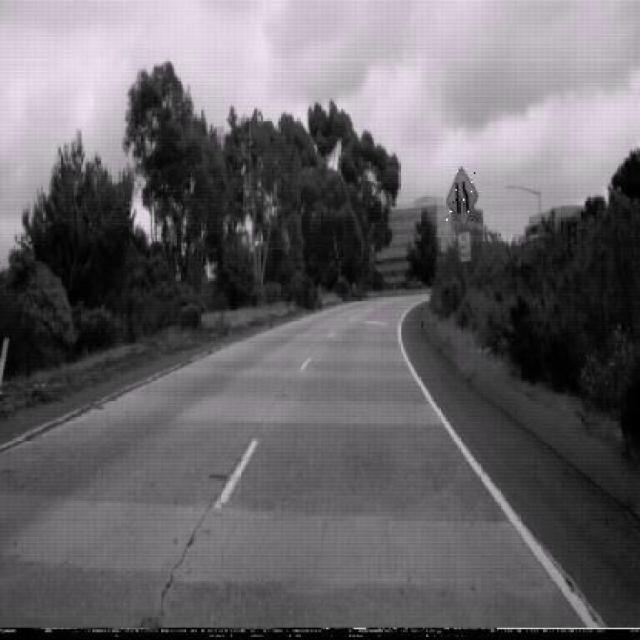laneEnds: (446, 166, 478, 231)
